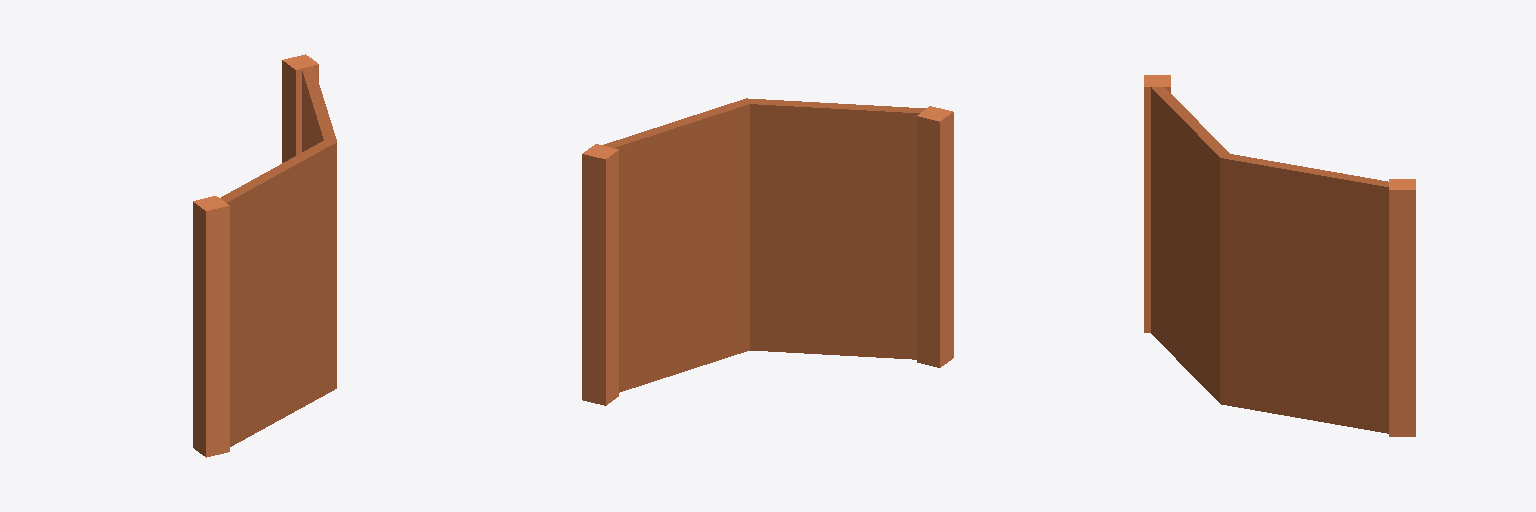
The model's file is wallWoodCornerEdge.obj.
The picture shows the model from 3 angles: view 1: azimuth 30°, elevation 25°; view 2: azimuth 150°, elevation 25°; view 3: azimuth 270°, elevation 25°; orthographic projection.
Parts seen in each view (by area): view 1: wallWoodCornerEdge; view 2: wallWoodCornerEdge; view 3: wallWoodCornerEdge.
Part boxes in pixels (x1,y1,x2,y2): wallWoodCornerEdge: (193,54,336,457); wallWoodCornerEdge: (582,98,953,405); wallWoodCornerEdge: (1144,75,1415,436).
Bounding box in the file's own units: 1 × 1 × 1.